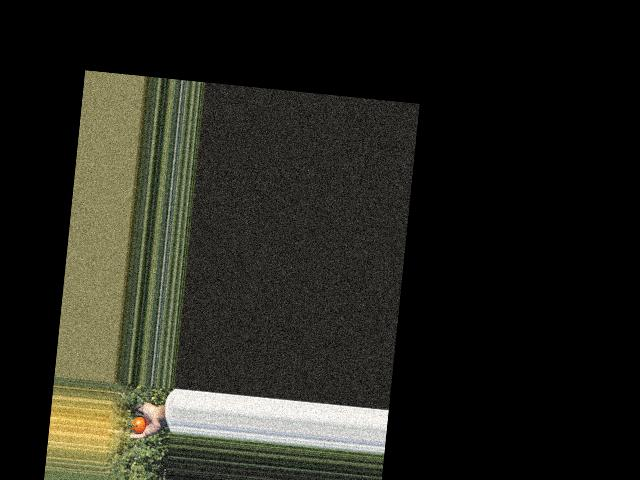tomato: (130, 416, 146, 434)
